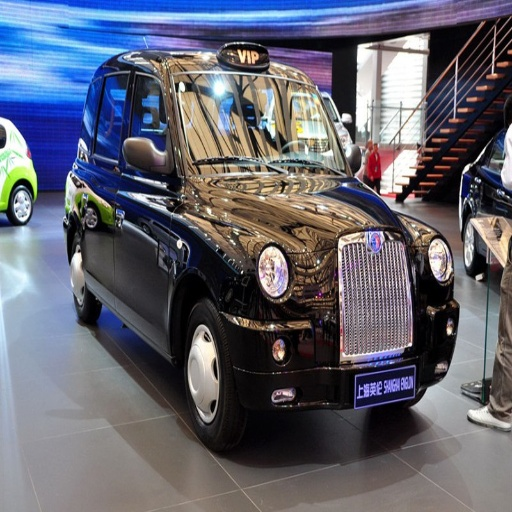front_bumper: (225, 229, 424, 409)
front_right_door: (112, 65, 174, 335)
trunk: (369, 278, 411, 366)
